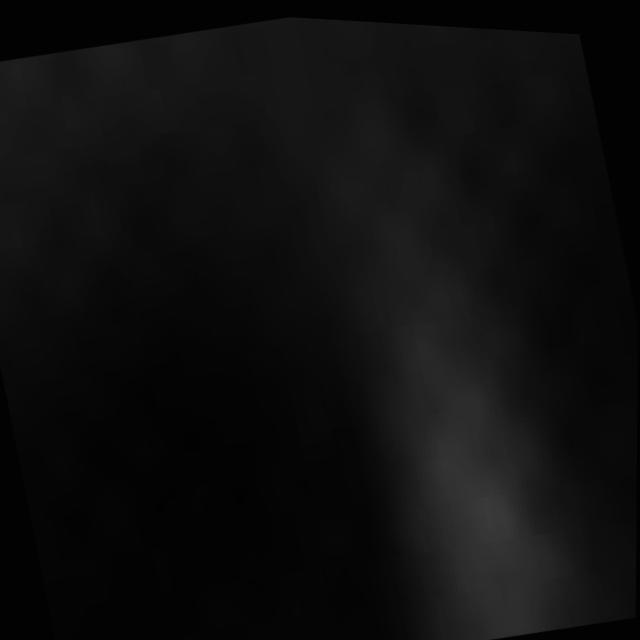person: (329, 92, 609, 640)
